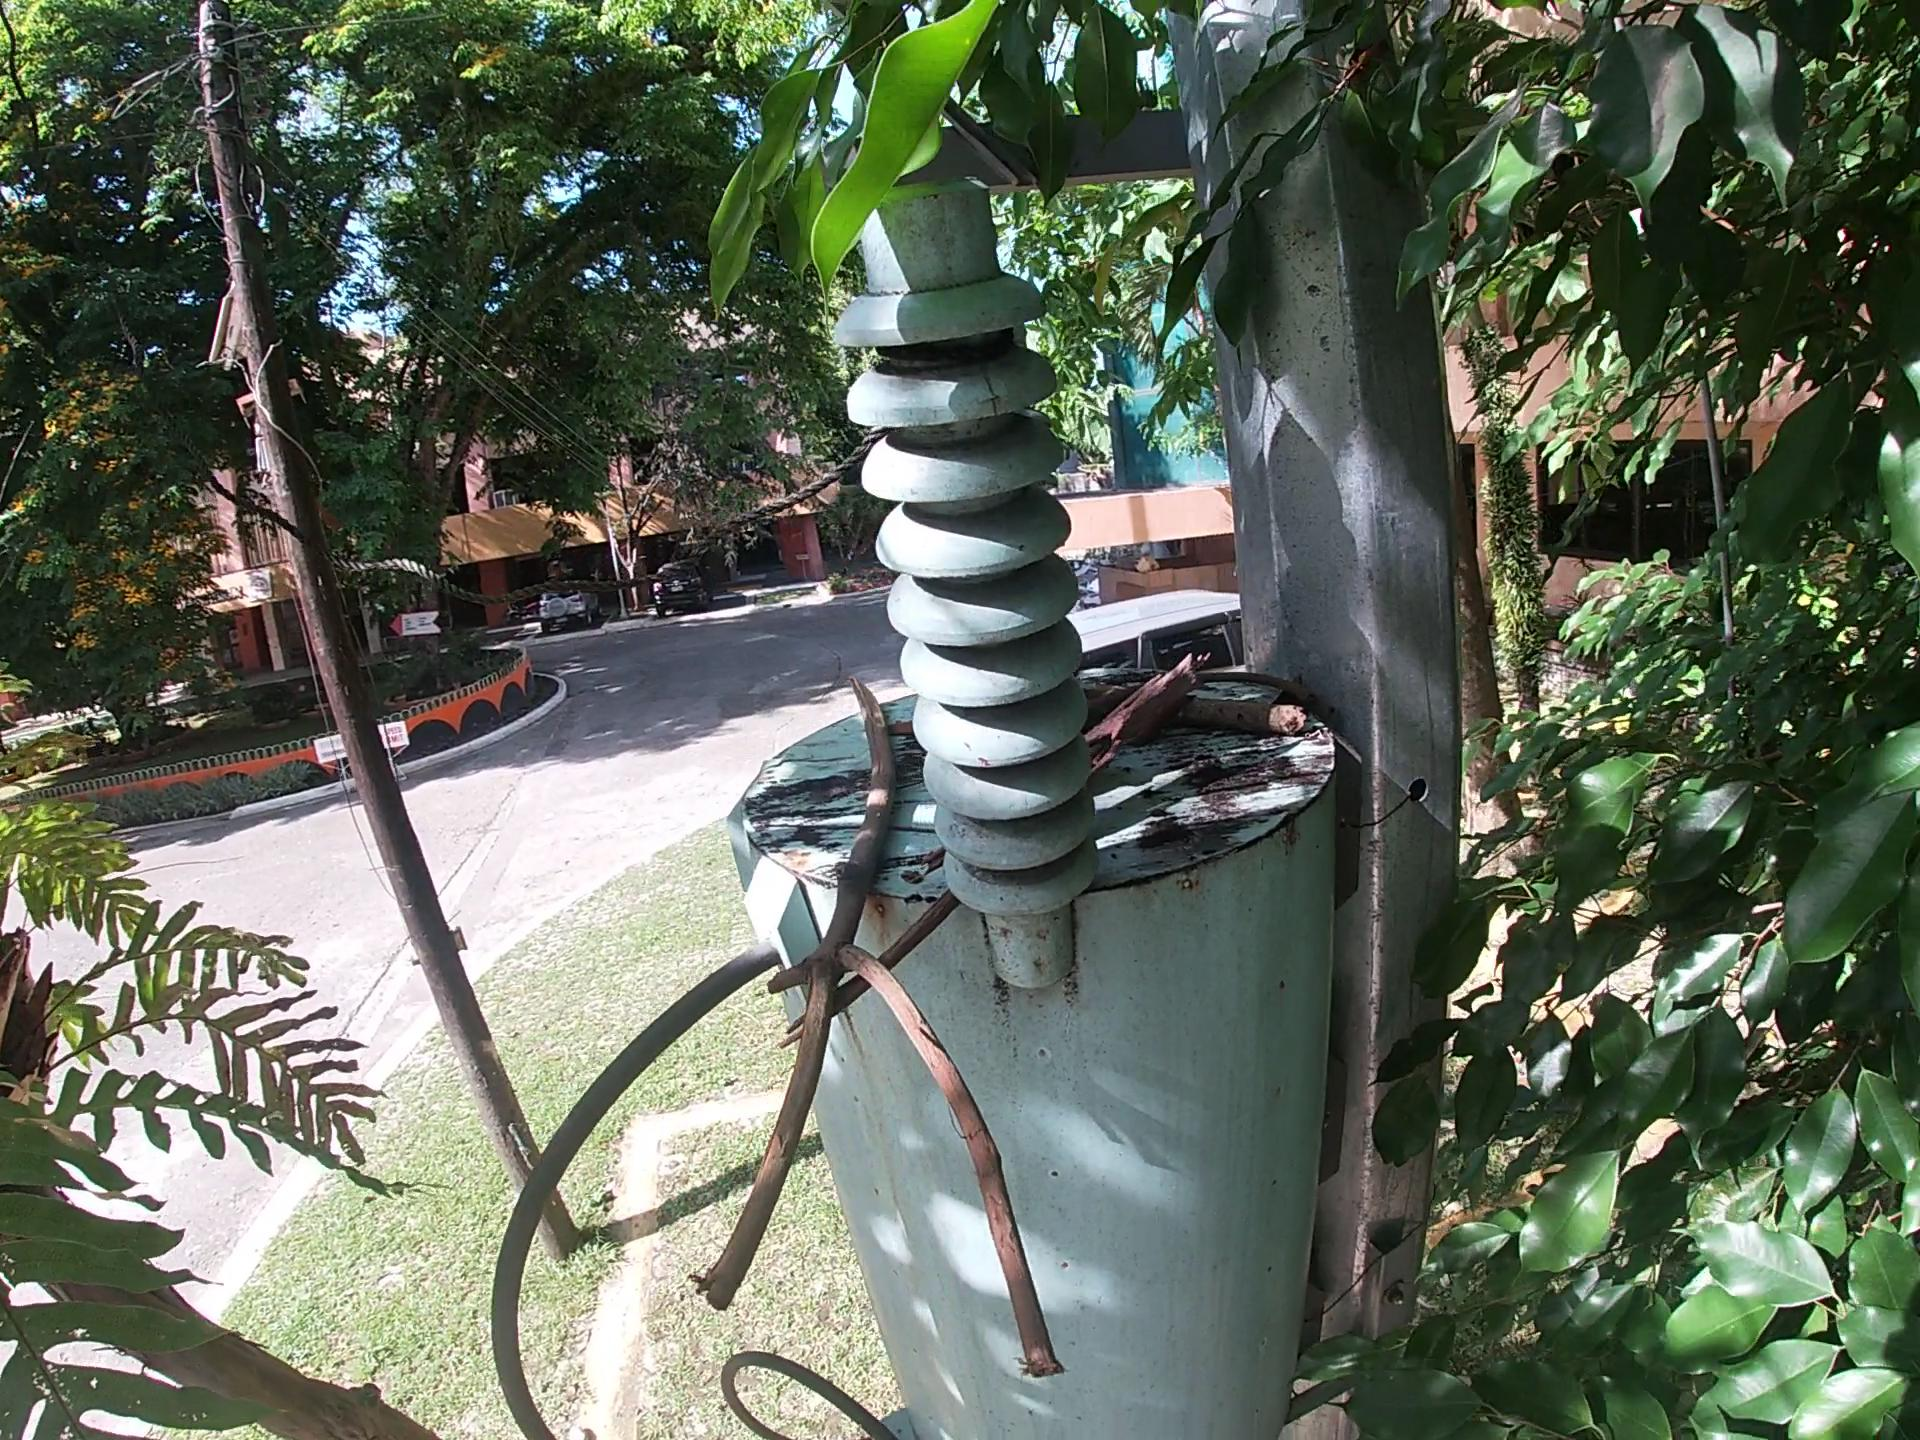leaf: (1276, 672, 1312, 706)
tree branch: (665, 673, 1082, 1386), (810, 895, 958, 1036), (1076, 641, 1234, 768), (1182, 703, 1332, 759), (1211, 667, 1346, 696), (1090, 666, 1161, 690), (919, 849, 940, 882)
